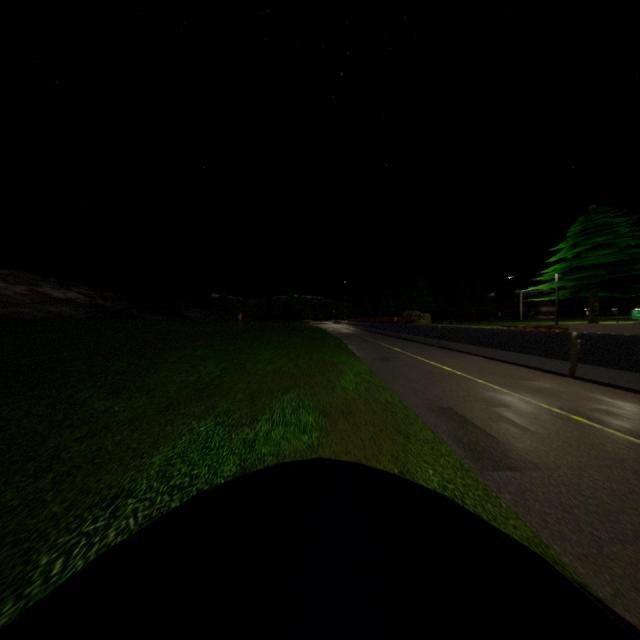Traffic_Signs: (238, 314, 242, 320)
Vehicle: (0, 459, 640, 640)
